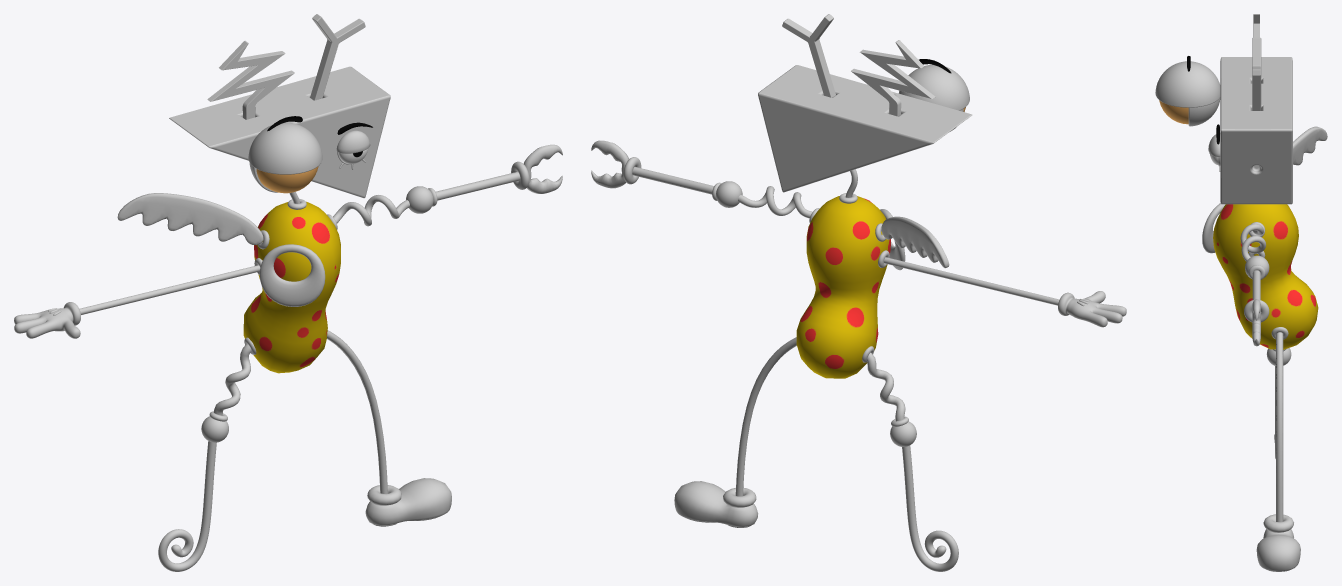
File: Zooble.fbx
The picture shows the model from 3 angles, left to right: view 1: azimuth 30°, elevation 25°; view 2: azimuth 150°, elevation 25°; view 3: azimuth 270°, elevation 25°; orthographic projection. The views are drawn at different scales.
Visible parts, largest first — view 1: Head, Torso, Wing, Shoe_R, Uppereyelid_R, Horn_R, Badge, Lowerleg_R, Glove, Leg_L, Horn_L, Arm_R (+5 smaller); view 2: Head, Torso, Shoe_R, Horn_R, Lowerleg_R, Uppereyelid_R, Wing, Glove, Leg_L, Horn_L, Arm_R, Claw (+3 smaller); view 3: Head, Torso, Uppereyelid_R, Shoe_R, Leg_L, Wing, Horn_L, Upperarm_L, Badge, Lowereyelid_R, Eye_R, Claw (+5 smaller).
Boxes of the visible parts, left/top/right/bottom form: Head: left=169, top=66, right=390, bottom=198; Torso: left=243, top=201, right=340, bottom=373; Wing: left=117, top=193, right=263, bottom=244; Shoe_R: left=365, top=478, right=451, bottom=526; Uppereyelid_R: left=248, top=122, right=322, bottom=174; Horn_R: left=207, top=40, right=294, bottom=119; Badge: left=259, top=244, right=325, bottom=306; Lowerleg_R: left=158, top=441, right=216, bottom=571; Glove: left=14, top=302, right=80, bottom=338; Leg_L: left=327, top=330, right=387, bottom=493; Horn_L: left=310, top=14, right=365, bottom=100; Arm_R: left=79, top=265, right=260, bottom=314; Head: left=758, top=65, right=972, bottom=192; Torso: left=796, top=196, right=890, bottom=378; Shoe_R: left=674, top=481, right=758, bottom=527; Horn_R: left=851, top=40, right=935, bottom=116; Lowerleg_R: left=902, top=445, right=958, bottom=571; Uppereyelid_R: left=898, top=64, right=969, bottom=110; Wing: left=881, top=216, right=949, bottom=268; Glove: left=1058, top=291, right=1126, bottom=327; Leg_L: left=735, top=337, right=796, bottom=496; Horn_L: left=782, top=14, right=835, bottom=97; Arm_R: left=884, top=257, right=1059, bottom=305; Claw: left=591, top=140, right=628, bottom=188; Head: left=1220, top=57, right=1292, bottom=204; Torso: left=1213, top=204, right=1318, bottom=349; Uppereyelid_R: left=1155, top=61, right=1220, bottom=107; Shoe_R: left=1256, top=514, right=1300, bottom=571; Leg_L: left=1276, top=332, right=1283, bottom=521; Wing: left=1293, top=126, right=1327, bottom=165; Horn_L: left=1252, top=37, right=1261, bottom=110; Upperarm_L: left=1240, top=224, right=1266, bottom=261; Badge: left=1202, top=203, right=1225, bottom=253; Lowereyelid_R: left=1188, top=98, right=1220, bottom=126; Eye_R: left=1159, top=100, right=1188, bottom=124; Claw: left=1252, top=299, right=1260, bottom=346.
Bounding box in the file's own units: 1436 × 1338 × 439.
